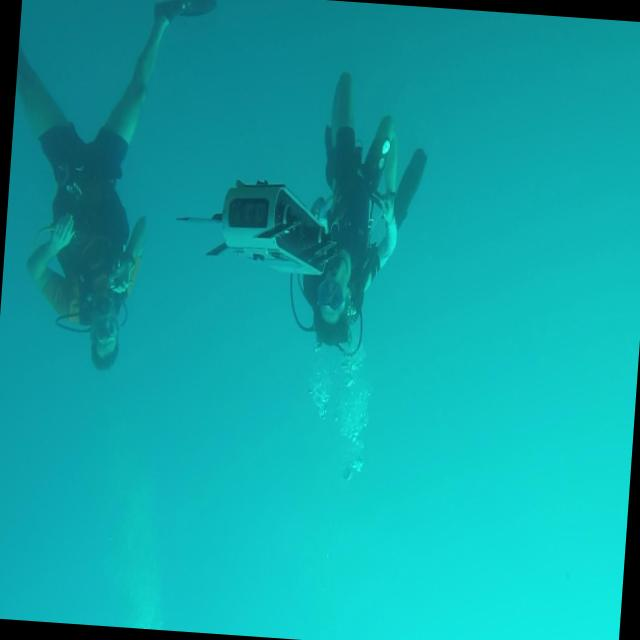human: (0, 0, 217, 379), (296, 70, 432, 355)
